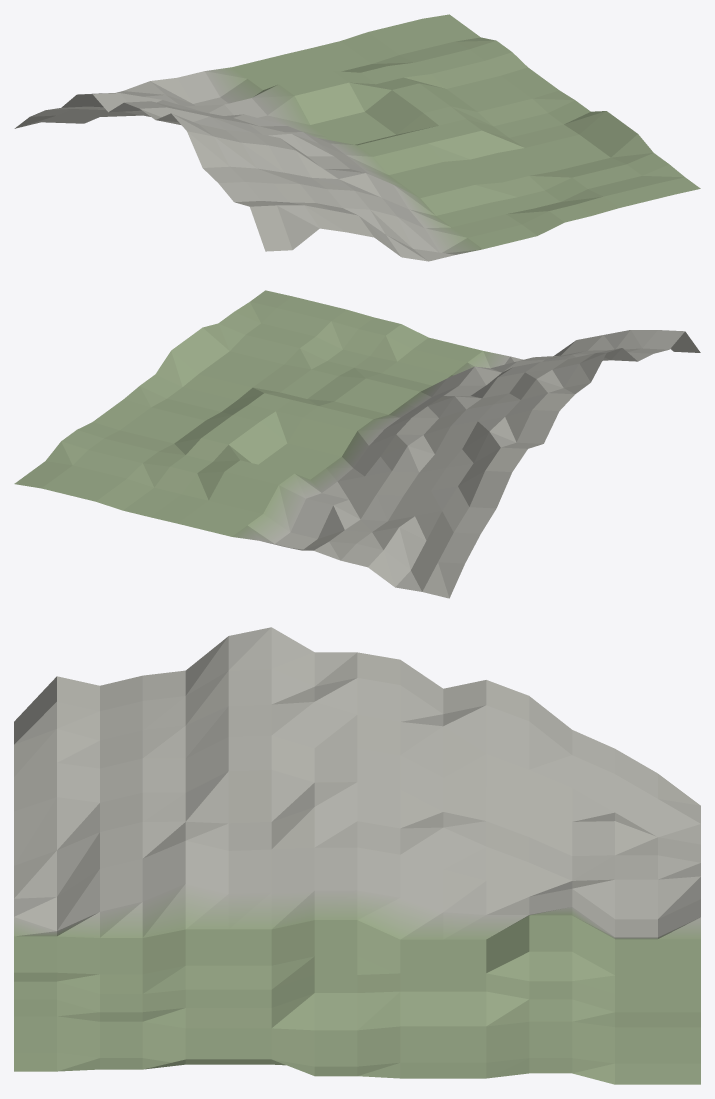
3 renders of one model, top to bottom at view 1: azimuth 30°, elevation 25°; view 2: azimuth 150°, elevation 25°; view 3: azimuth 270°, elevation 25°, orthographic. The views are drawn at different scales.
Bounding box in the file's own units: 32 × 9.41 × 32.
